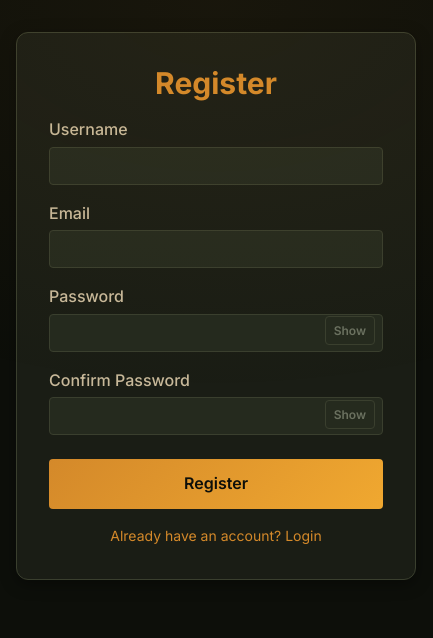
RegisterForm › shows validation error for password too short
Type "newuser" into the field labelled "Username" at (216, 166), box [49,147,383,185]
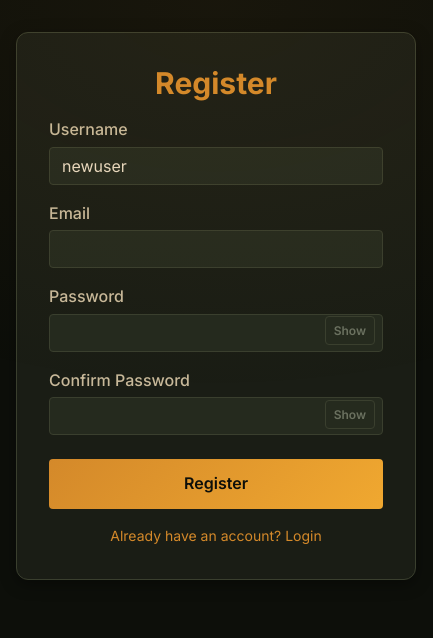
Type "new@test.com" into the field labelled "Email" at (216, 249), box [49,230,383,268]
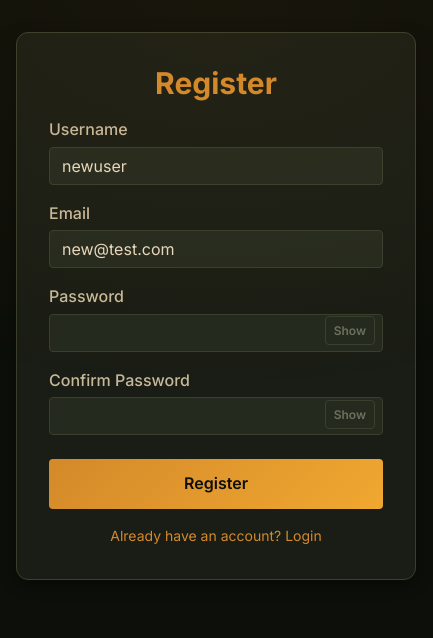
Type "short" into the password field labelled "Password Show" at (216, 333), box [49,314,383,352]
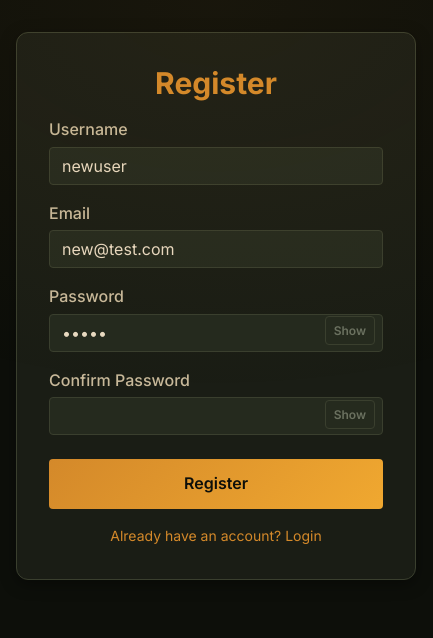
Type "short" into the password field labelled "Confirm Password Show" at (216, 416), box [49,397,383,435]
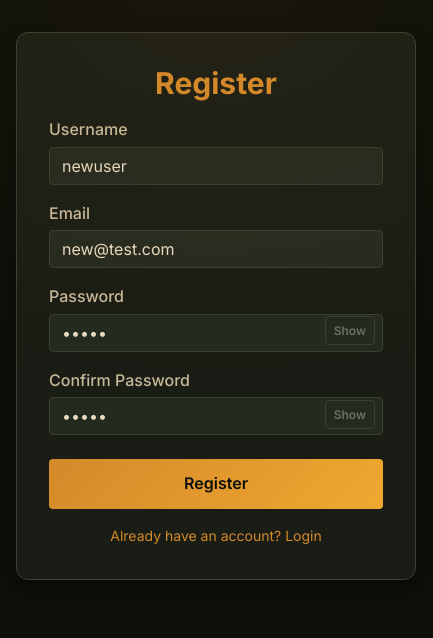
Click the button "Register" at (216, 484), box [49,459,383,509]
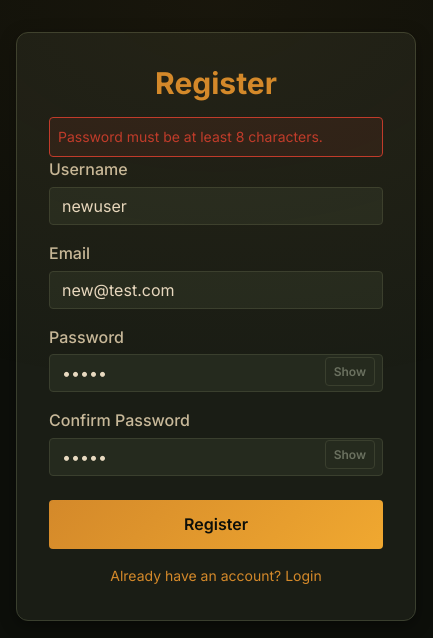
Expected: the message reads "Password must be at least 8 characters.", [58,128,323,145]
